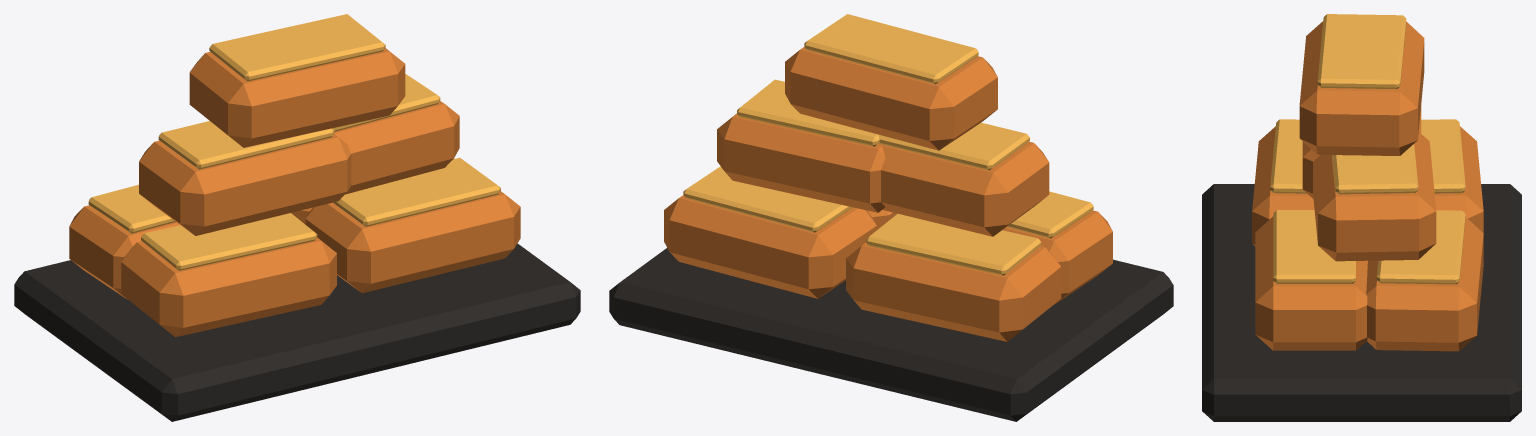
File: copper.glb
3 renders of one model, left to right at view 1: azimuth 30°, elevation 25°; view 2: azimuth 150°, elevation 25°; view 3: azimuth 270°, elevation 25°, orthographic.
Parts seen in each view (by area): view 1: copper-black-pallet, copper-ingot-6, copper-ingot-0, copper-ingot-4, copper-ingot-1, copper-ingot-5, copper-polished-face-6, copper-polished-face-1, copper-polished-face-0, copper-ingot-2, copper-polished-face-4, copper-polished-face-2 (+1 smaller); view 2: copper-black-pallet, copper-ingot-2, copper-ingot-6, copper-ingot-3, copper-ingot-4, copper-ingot-5, copper-polished-face-6, copper-polished-face-2, copper-polished-face-3, copper-ingot-0, copper-polished-face-4, copper-polished-face-5 (+1 smaller); view 3: copper-black-pallet, copper-ingot-6, copper-ingot-5, copper-ingot-3, copper-ingot-1, copper-polished-face-6, copper-polished-face-1, copper-polished-face-3, copper-polished-face-5, copper-polished-face-2, copper-ingot-0, copper-polished-face-0 (+2 smaller).
Part boxes in pixels (x1,y1,x2,y2): copper-black-pallet: (14,243,580,421); copper-ingot-6: (189,48,405,147); copper-ingot-0: (121,237,336,337); copper-ingot-4: (139,134,351,235); copper-ingot-1: (305,191,520,293); copper-ingot-5: (334,101,459,194); copper-polished-face-6: (209,14,385,81); copper-polished-face-1: (333,157,500,226); copper-polished-face-0: (141,213,317,270); copper-ingot-2: (69,205,180,299); copper-polished-face-4: (158,121,334,169); copper-polished-face-2: (88,184,175,233); copper-black-pallet: (609,248,1173,421); copper-ingot-2: (846,242,1061,341); copper-ingot-6: (785,47,997,150); copper-ingot-3: (664,195,876,298); copper-ingot-4: (877,141,1049,236); copper-ingot-5: (717,113,885,212); copper-polished-face-6: (804,14,978,84); copper-polished-face-2: (866,213,1041,275); copper-polished-face-3: (683,166,851,232); copper-ingot-0: (1002,210,1112,304); copper-polished-face-4: (878,122,1029,170); copper-polished-face-5: (737,79,879,146); copper-black-pallet: (1202,184,1521,421); copper-ingot-6: (1299,21,1424,155); copper-ingot-5: (1313,132,1436,261); copper-ingot-3: (1366,217,1483,351); copper-ingot-1: (1255,216,1367,350); copper-polished-face-6: (1317,14,1406,88); copper-polished-face-1: (1273,210,1355,283); copper-polished-face-3: (1376,210,1465,284); copper-polished-face-5: (1332,144,1418,194); copper-polished-face-2: (1421,119,1465,193); copper-ingot-0: (1252,126,1314,245); copper-polished-face-0: (1270,119,1306,193).
Size of the model in its own units: 1.59 by 1 by 1.04.
